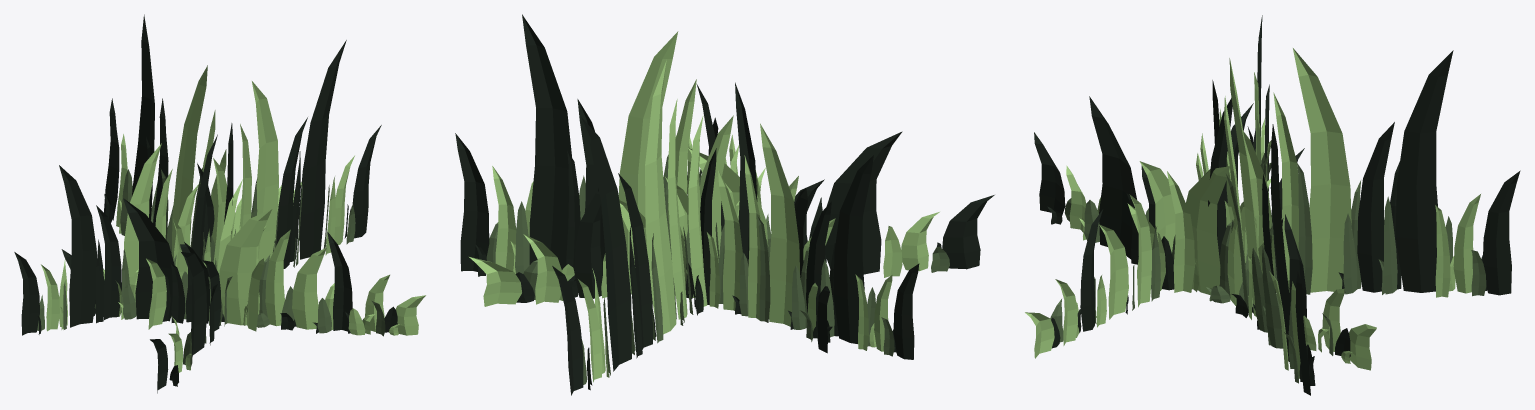
Rendered from GrassClump.fbx.
3 views of the same model, side by side, from view 1: azimuth 30°, elevation 25°; view 2: azimuth 150°, elevation 25°; view 3: azimuth 270°, elevation 25° (orthographic). The views are drawn at different scales.
Visible parts, largest first — view 1: grass; view 2: grass; view 3: grass.
Boxes of the visible parts, box(x1,y1,x2,y2) form: grass: box(14, 14, 425, 393); grass: box(455, 14, 994, 395); grass: box(1025, 15, 1520, 395).
Size of the model in its own units: 827 by 450 by 792.
